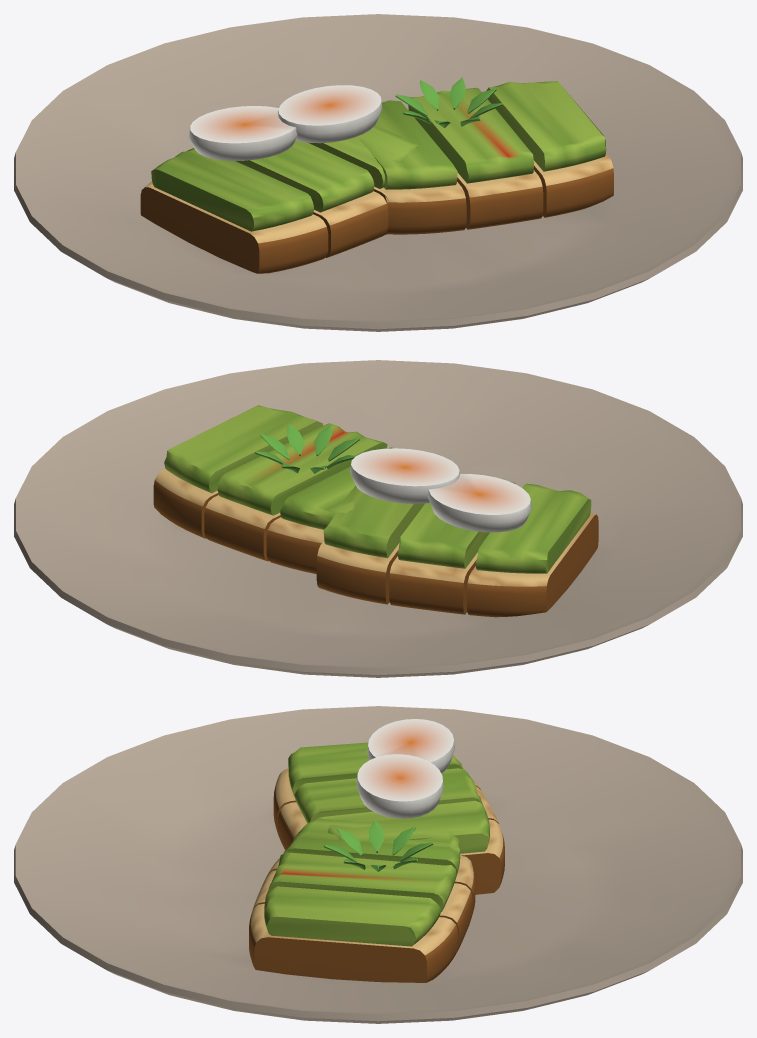
File: dish-avocado-toast-lod1.glb
3 renders of one model, top to bottom at view 1: azimuth 30°, elevation 25°; view 2: azimuth 150°, elevation 25°; view 3: azimuth 270°, elevation 25°, orthographic.
Parts seen in each view (by area): view 1: avocado-toast.lod1__table warm glaze, avocado-toast.lod1__food, avocado-toast.lod1__food glaze; view 2: avocado-toast.lod1__table warm glaze, avocado-toast.lod1__food, avocado-toast.lod1__food glaze; view 3: avocado-toast.lod1__table warm glaze, avocado-toast.lod1__food, avocado-toast.lod1__food glaze.
Boxes of the visible parts, box(x1,y1,x2,y2) form: avocado-toast.lod1__table warm glaze: box(14, 14, 742, 331); avocado-toast.lod1__food: box(140, 77, 613, 273); avocado-toast.lod1__food glaze: box(189, 85, 382, 160); avocado-toast.lod1__table warm glaze: box(14, 360, 742, 677); avocado-toast.lod1__food: box(153, 405, 598, 617); avocado-toast.lod1__food glaze: box(350, 448, 531, 532); avocado-toast.lod1__table warm glaze: box(14, 706, 742, 1023); avocado-toast.lod1__food: box(249, 742, 504, 982); avocado-toast.lod1__food glaze: box(356, 719, 454, 818).
Bounding box in the file's own units: 0.27 × 0.0495 × 0.2685.
